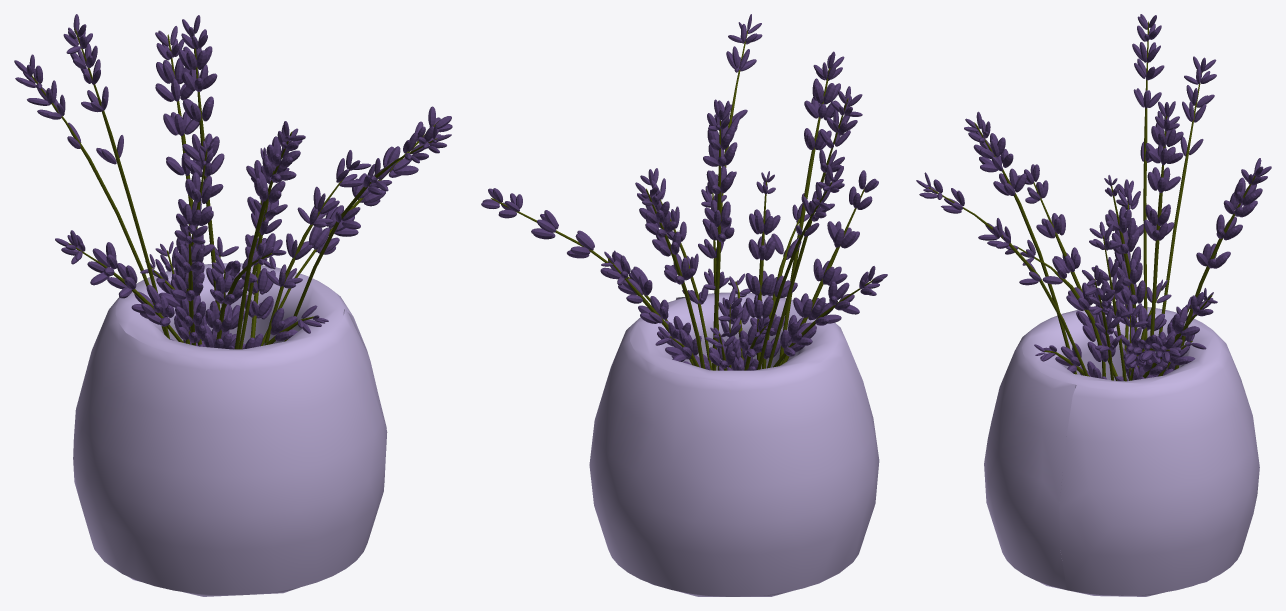
The model's file is lavander.fbx.
3 renders of one model, left to right at view 1: azimuth 30°, elevation 25°; view 2: azimuth 150°, elevation 25°; view 3: azimuth 270°, elevation 25°, orthographic. The views are drawn at different scales.
Parts seen in each view (by area): view 1: g.543; view 2: g.543; view 3: g.543.
Boxes of the visible parts, left/top/right/bottom form: g.543: left=14, top=14, right=452, bottom=596; g.543: left=481, top=14, right=887, bottom=596; g.543: left=916, top=14, right=1271, bottom=596.
Bounding box in the file's own units: 1.59 × 1.34 × 2.
